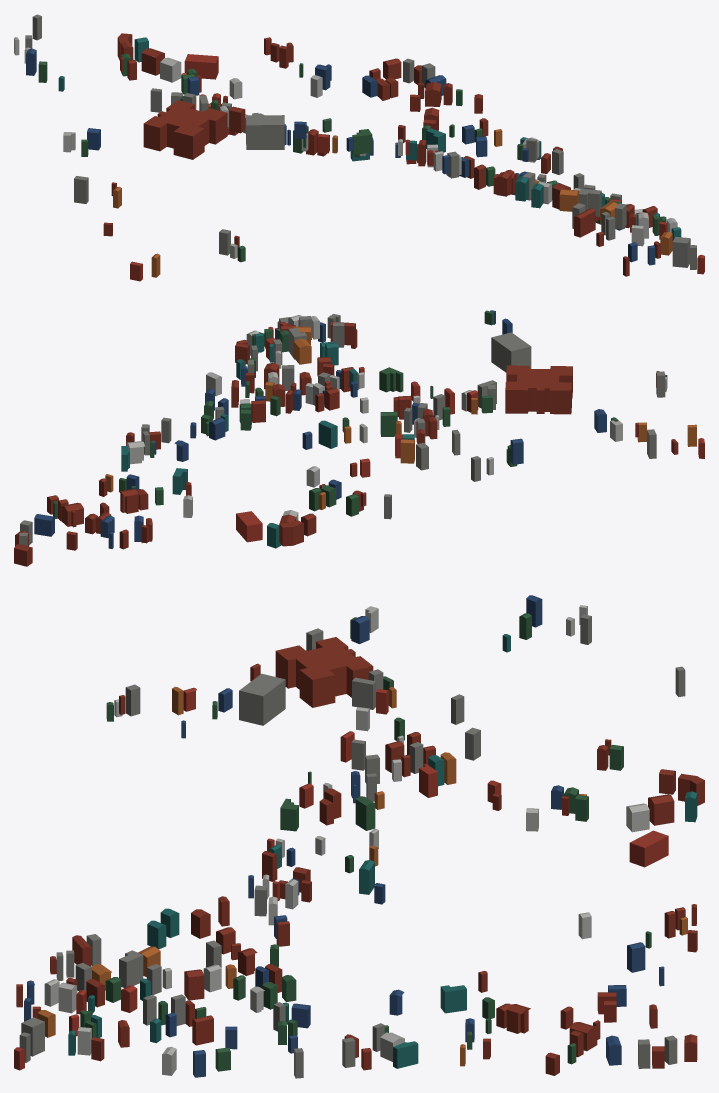
File: near-16-54727-29739.0d9d9d03.glb
The picture shows the model from 3 angles, top to bottom: view 1: azimuth 30°, elevation 25°; view 2: azimuth 150°, elevation 25°; view 3: azimuth 270°, elevation 25°; orthographic projection. The views are drawn at different scales.
Bounding box in the file's own units: 597 × 205 × 588.
